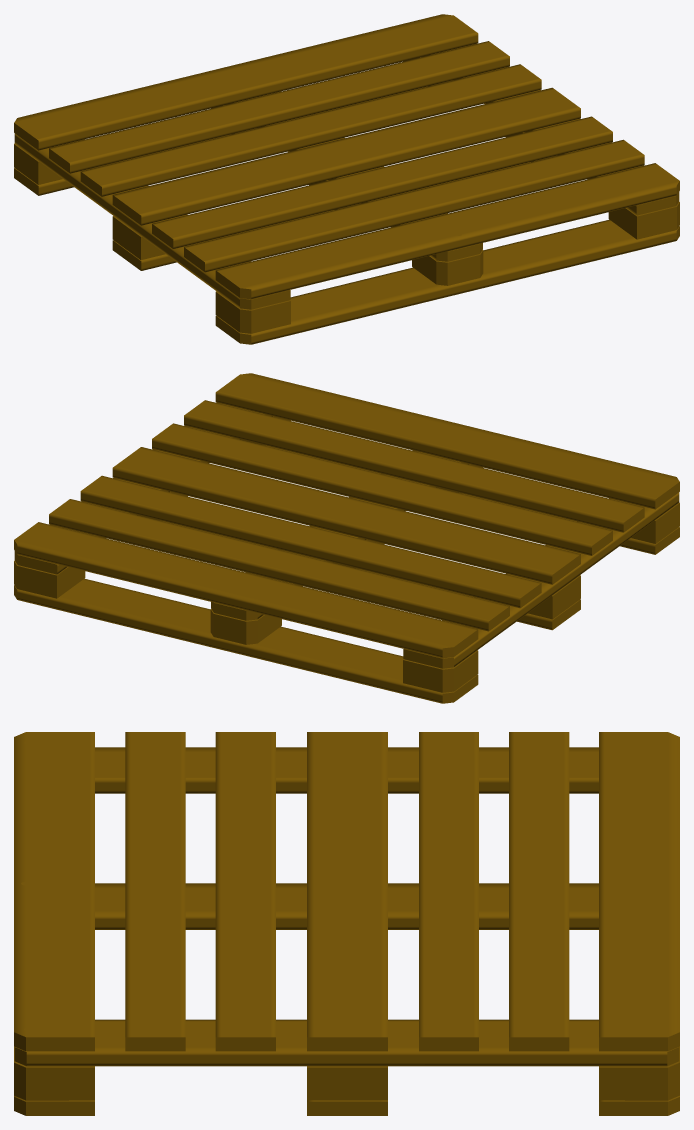
The model's file is altlık.fbx.
3 renders of one model, top to bottom at view 1: azimuth 30°, elevation 25°; view 2: azimuth 150°, elevation 25°; view 3: azimuth 270°, elevation 25°, orthographic. The views are drawn at different scales.
Parts seen in each view (by area): view 1: SM_Pallet01_Internal:Mesh; view 2: SM_Pallet01_Internal:Mesh; view 3: SM_Pallet01_Internal:Mesh.
Boxes of the visible parts, box(x1,y1,x2,y2) form: SM_Pallet01_Internal:Mesh: box(14, 14, 679, 344); SM_Pallet01_Internal:Mesh: box(14, 373, 679, 703); SM_Pallet01_Internal:Mesh: box(14, 732, 679, 1115).
Bounding box in the file's own units: 119 × 14.39 × 110.
